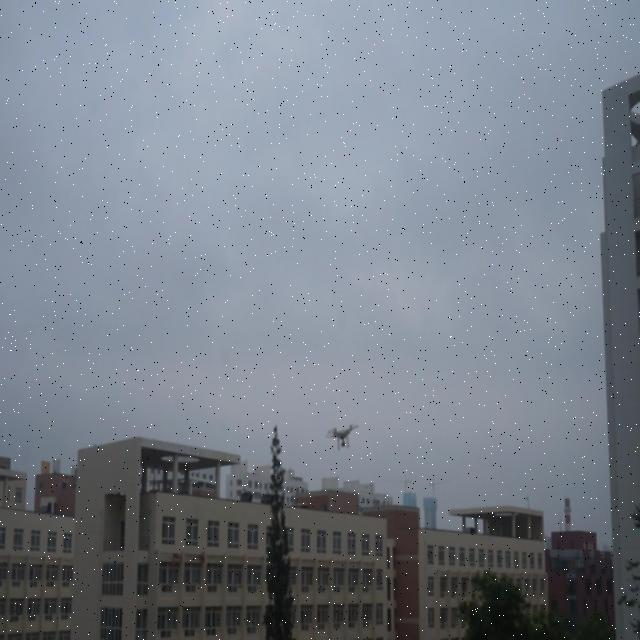UAV: (326, 424, 359, 450)
